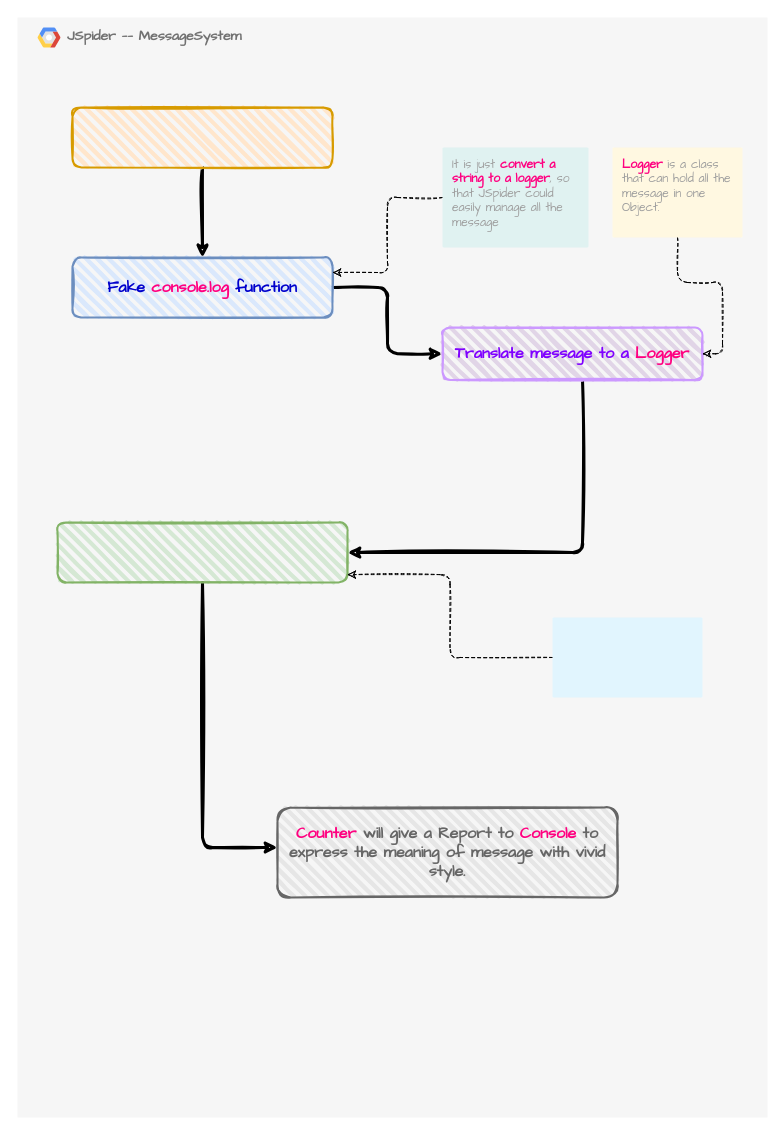
The diagram is 784 pixels wide and 1134 high, and some of its shapes have lost their labels. Each missing label, with the centre of its shape:
A String: the point at 202,137
Counter is a Reports Store of a Plugin or other system: the point at 627,657
Logger will be put into a Counter: the point at 202,552
